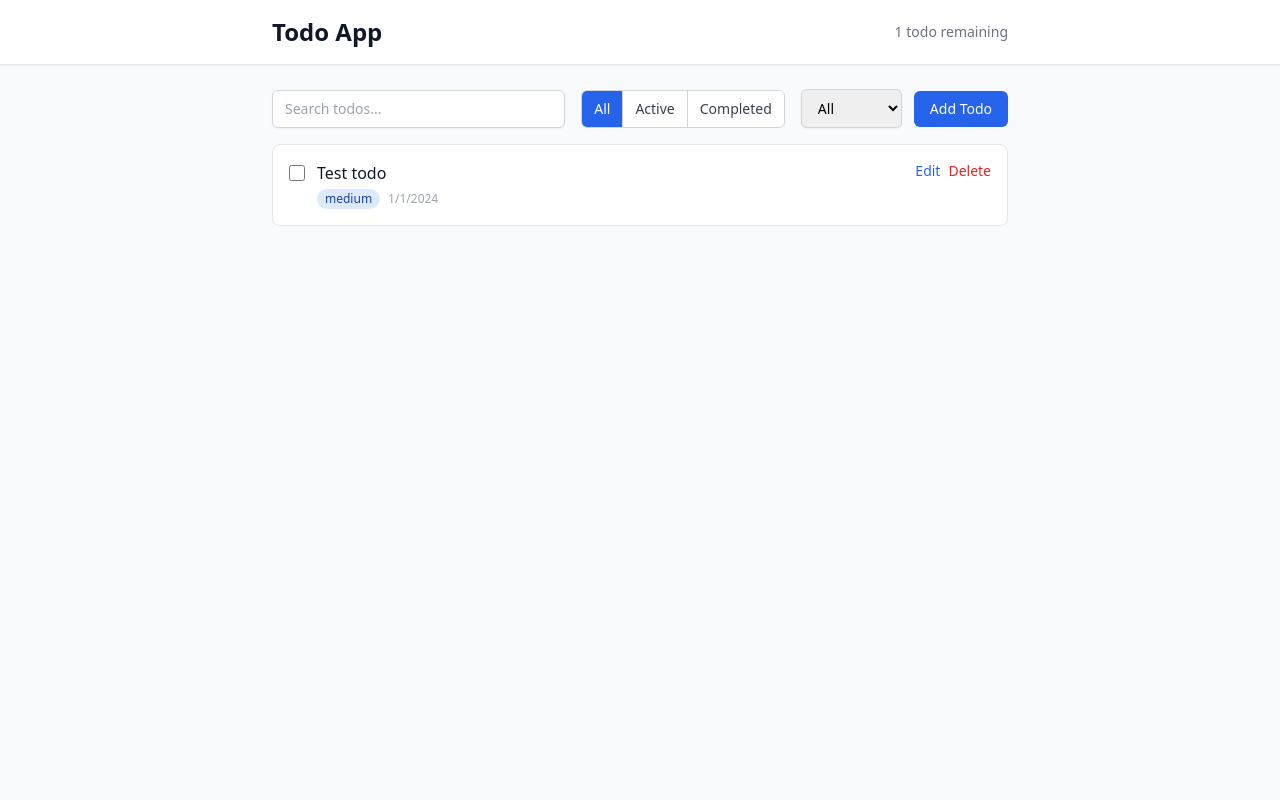
App › opens edit modal when Edit is clicked
The image size is (1280, 800).
Click the button "Edit" at (928, 171), box [915,161,940,181]
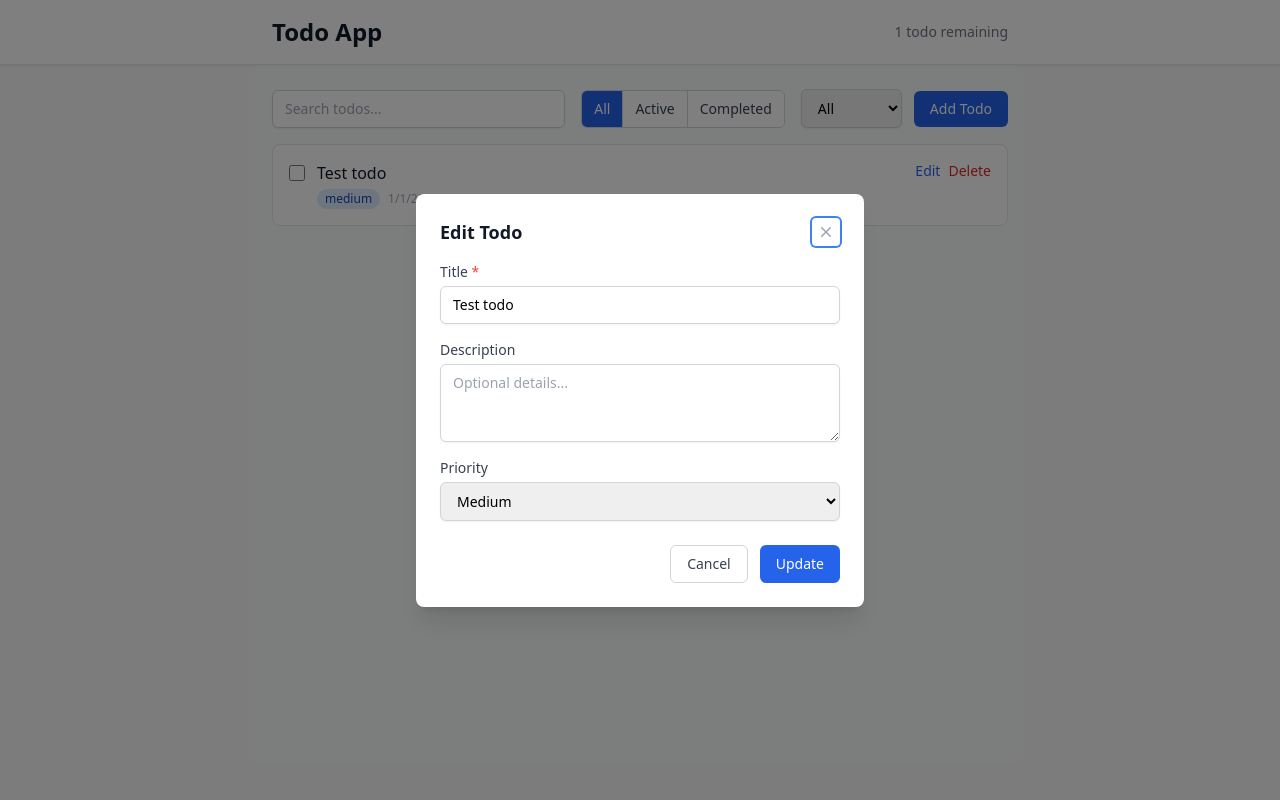
expect the dialog "Edit Todo" is shown: met
expect the field showing "Test todo" is shown: met, box [440,286,840,324]
